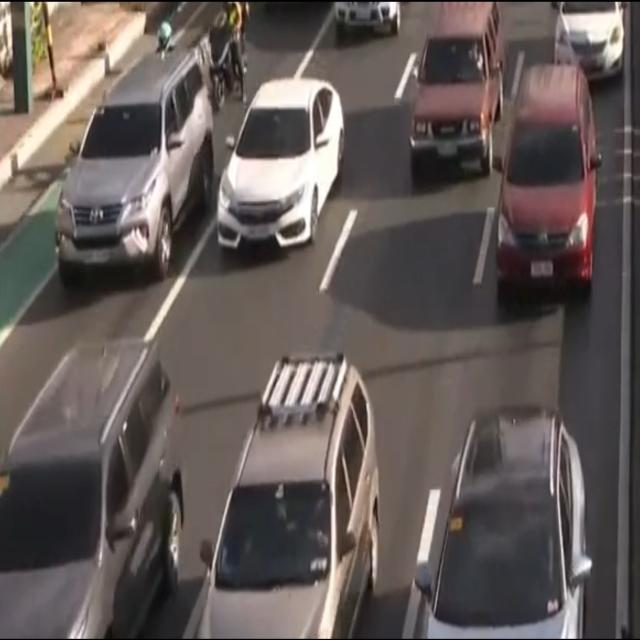Motorcycle: (207, 0, 251, 104)
SUV: (0, 342, 181, 640), (205, 361, 380, 640), (416, 403, 588, 640), (66, 49, 214, 281), (496, 67, 591, 296), (409, 0, 503, 178)
Sedan: (218, 70, 344, 253), (547, 0, 624, 81)
